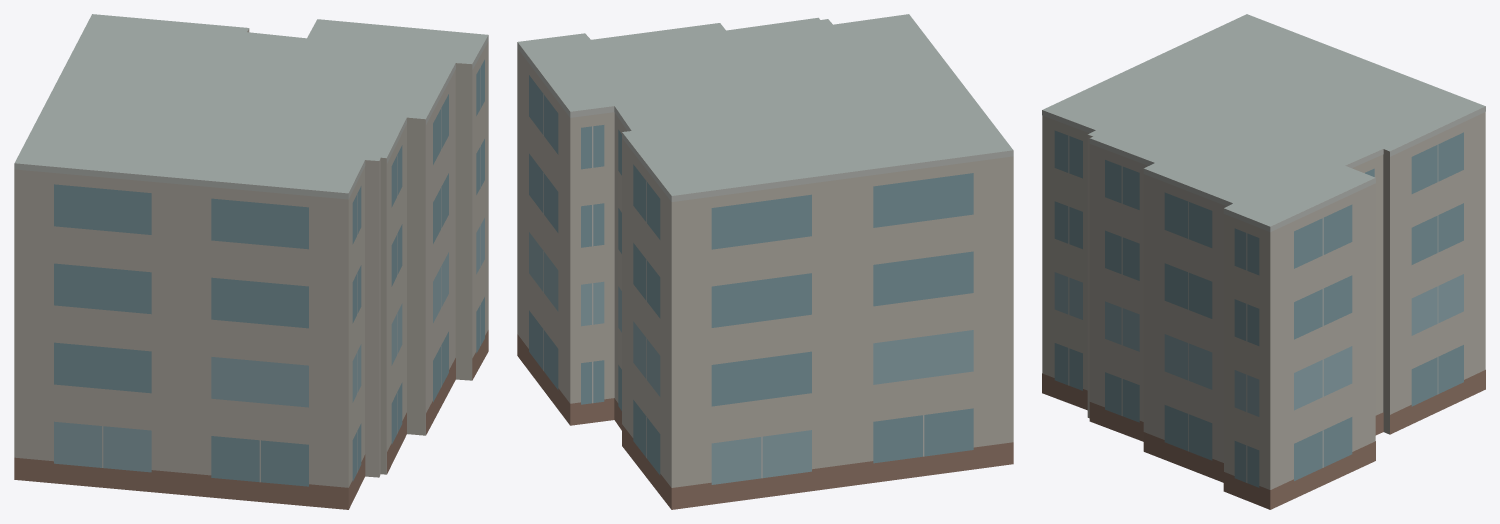
Rendered from survey-upis-32695708.glb.
3 views of the same model, side by side, from view 1: azimuth 30°, elevation 25°; view 2: azimuth 150°, elevation 25°; view 3: azimuth 270°, elevation 25° (orthographic). The views are drawn at different scales.
Parts seen in each view (by area): view 1: survey-upis-32695708.tmp; view 2: survey-upis-32695708.tmp; view 3: survey-upis-32695708.tmp.
Part boxes in pixels (left/top/right/bottom): survey-upis-32695708.tmp: left=14, top=14, right=488, bottom=509; survey-upis-32695708.tmp: left=517, top=14, right=1013, bottom=509; survey-upis-32695708.tmp: left=1042, top=14, right=1485, bottom=509.
Bounding box in the file's own units: 20.28 × 12.58 × 17.87.
